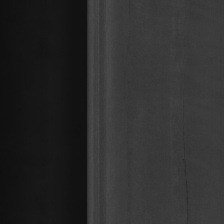inclusion: (180, 77, 191, 222)
